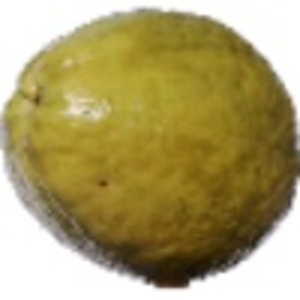goiaba: (4, 3, 295, 273)
